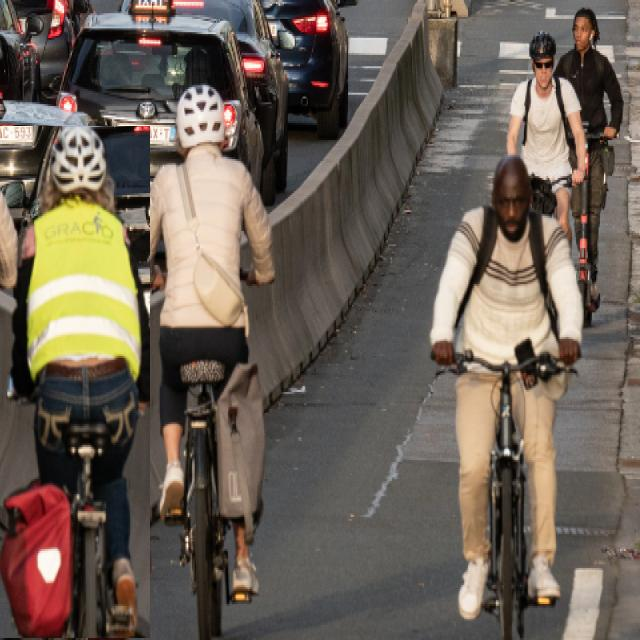bicycle: (134, 85, 274, 638), (0, 126, 150, 638), (430, 156, 584, 636)
car: (58, 0, 260, 223)
